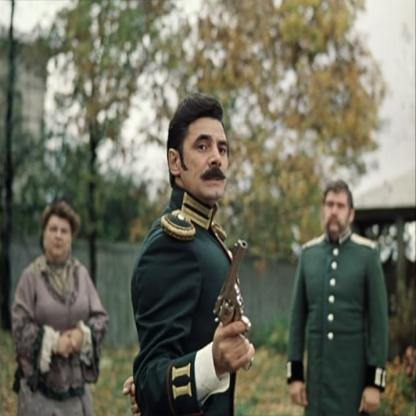gun: (223, 234, 248, 363)
